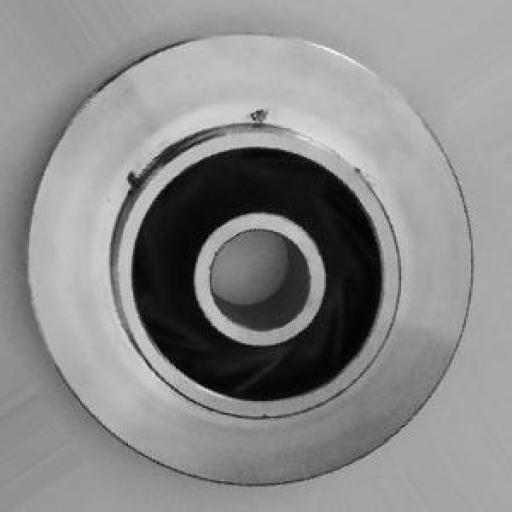defect: (102, 101, 309, 208)
